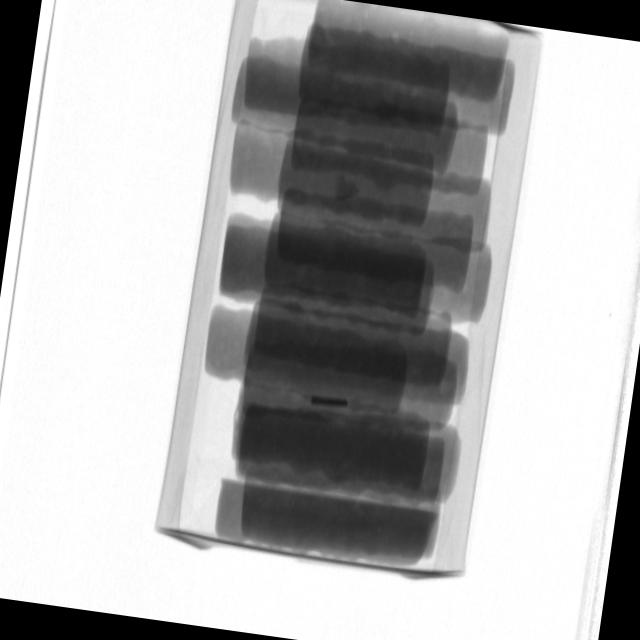ym: (332, 172, 361, 208), (312, 397, 349, 411)
